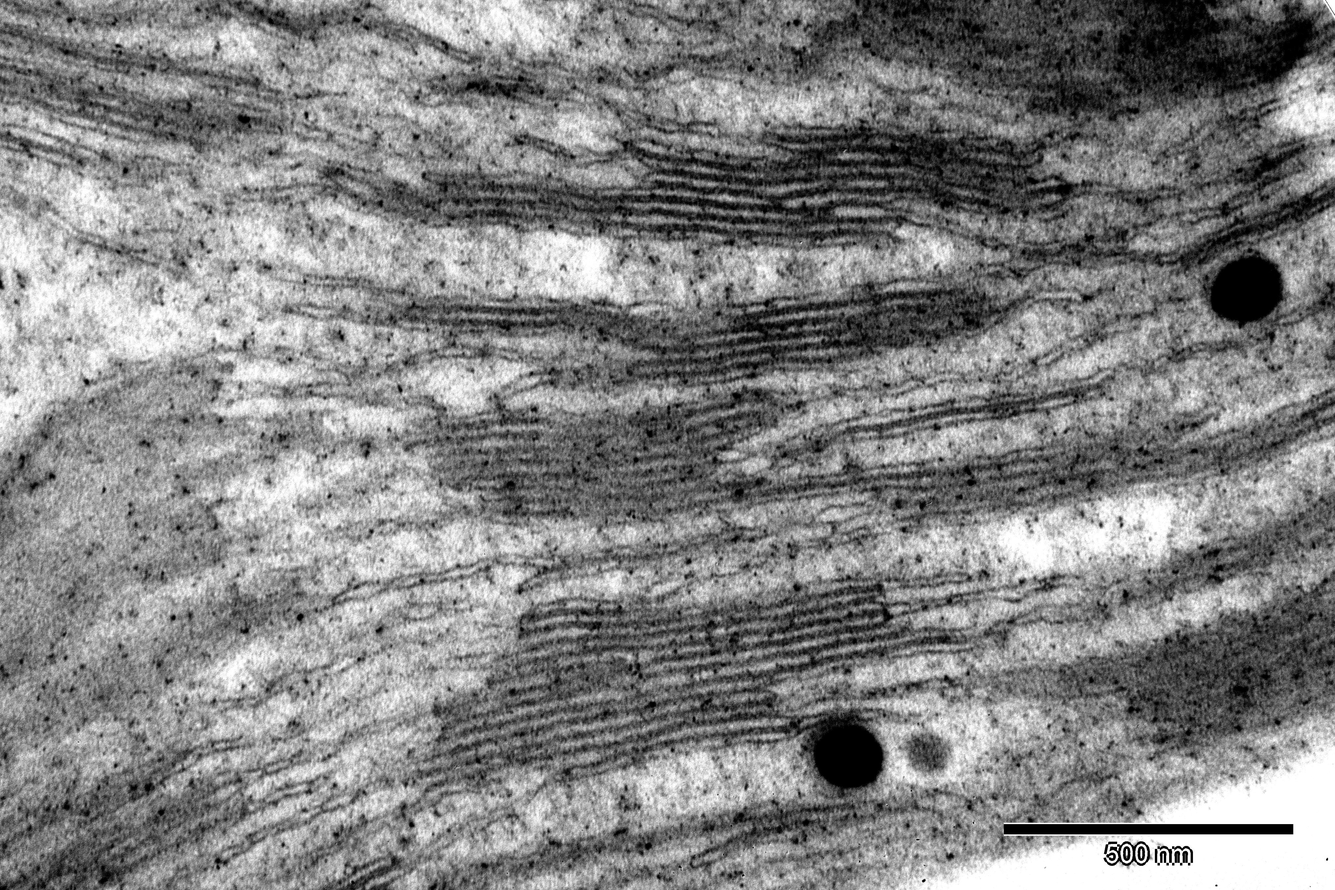granum: (404, 569, 920, 807), (324, 118, 1068, 254), (0, 345, 240, 691), (947, 567, 1334, 771), (359, 274, 989, 393), (862, 385, 1334, 533), (412, 383, 787, 537), (856, 0, 1335, 115), (0, 573, 263, 773), (1084, 480, 1333, 628), (0, 768, 239, 890), (0, 47, 228, 160), (743, 791, 818, 844)
